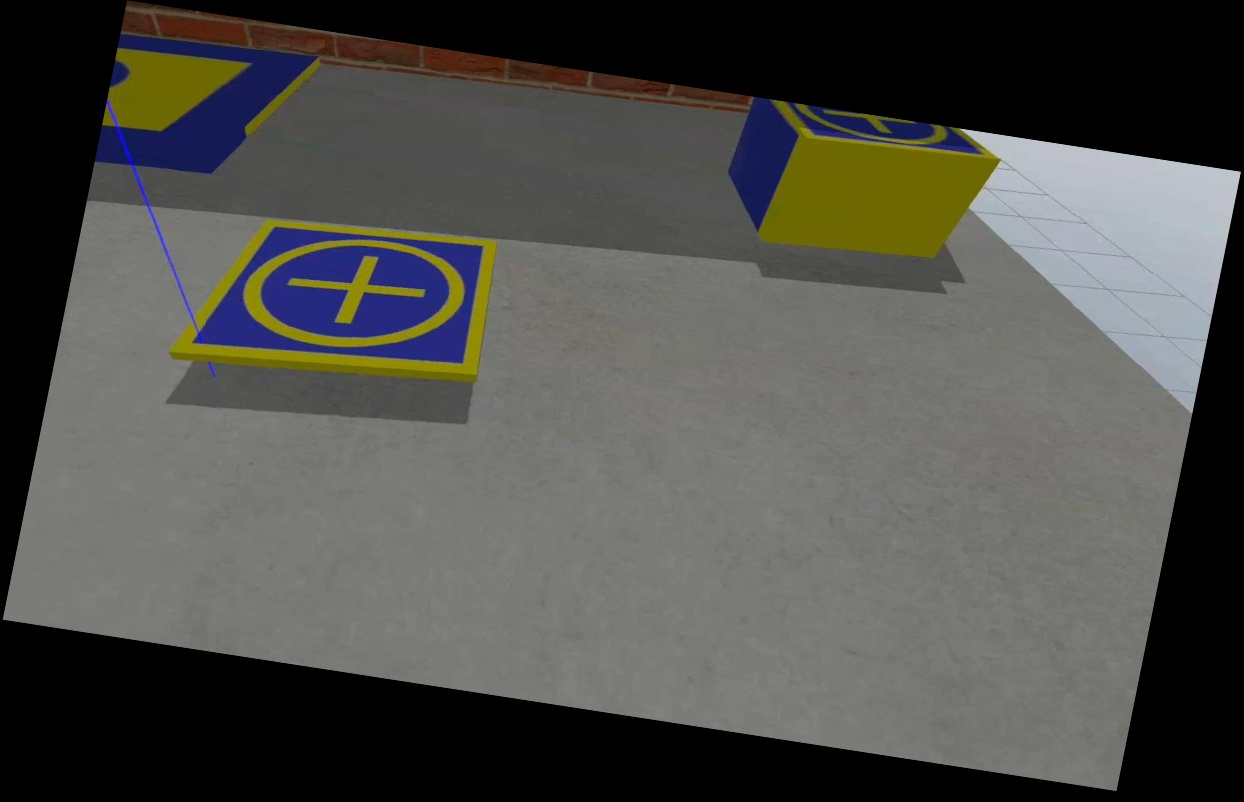large_base: (93, 27, 322, 201)
small_base: (169, 198, 509, 403), (759, 99, 1013, 171)
